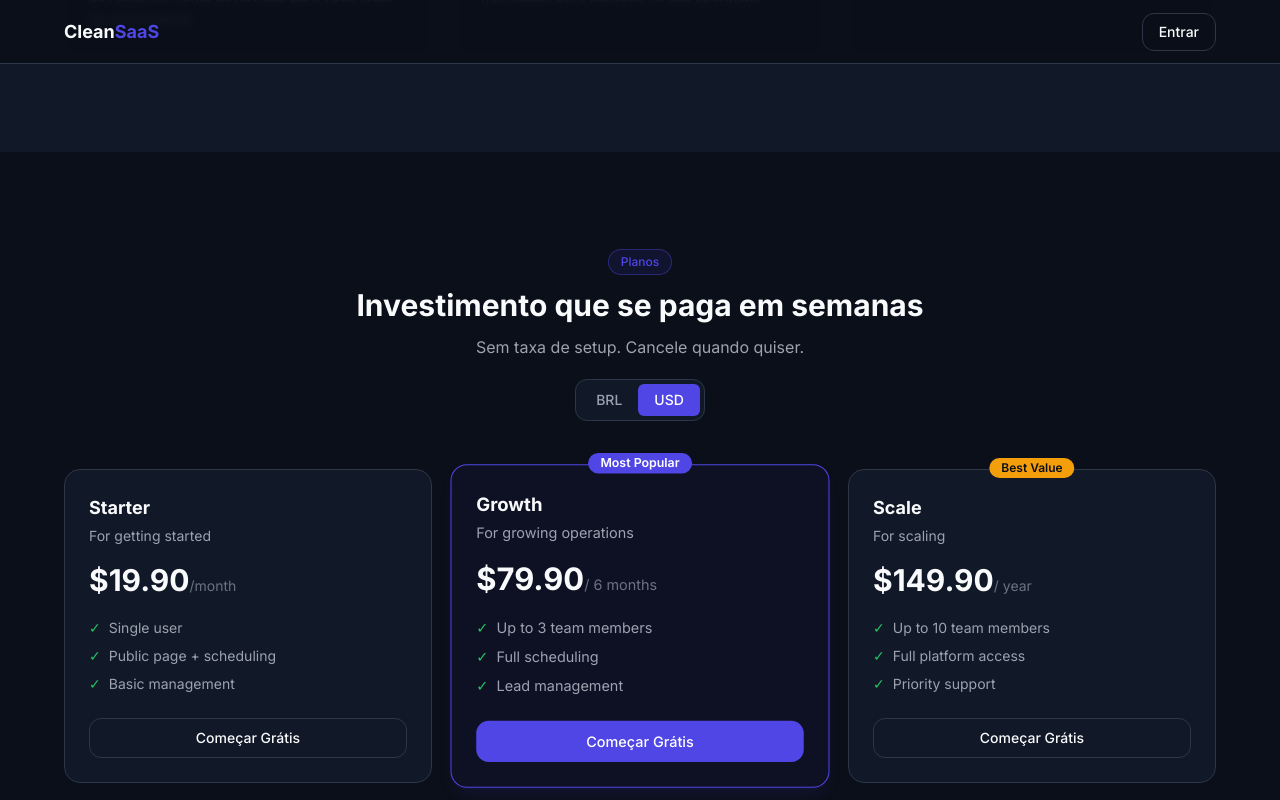
LandingPage — pricing section currency toggle › switches prices from USD to BRL when BRL toggle is clicked
(page scrolled)
Step 1. Click the button with test id "currency-toggle-brl" → (609, 400), box left=580, top=384, right=638, bottom=416
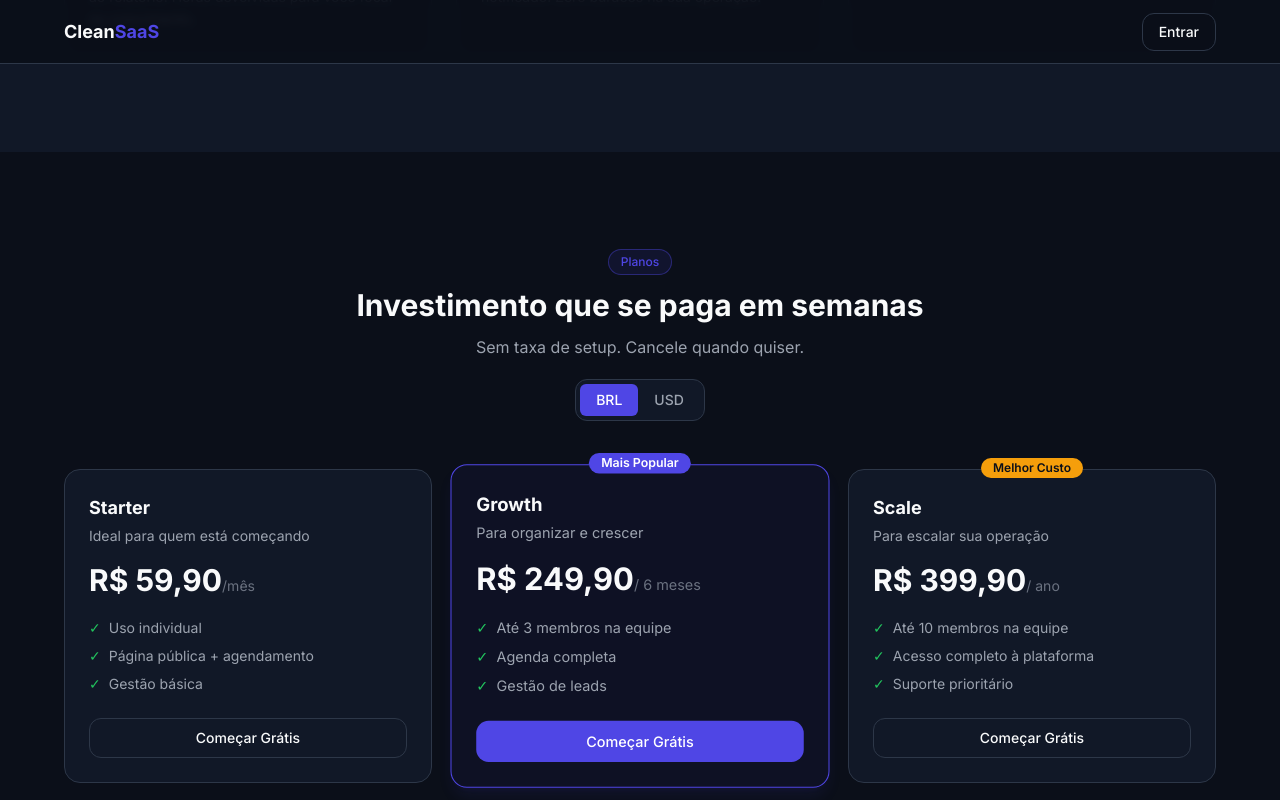
Check: the text "R$ 59,90" is shown, box left=89, top=562, right=222, bottom=598
